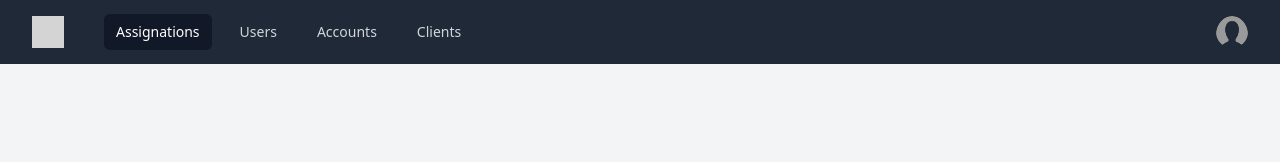
Test: Header › it should render user options for desktop
Click the button with test id "header-profile-dropdown-button".
click(1232, 32)  # box x1=1216 y1=16 x2=1248 y2=48
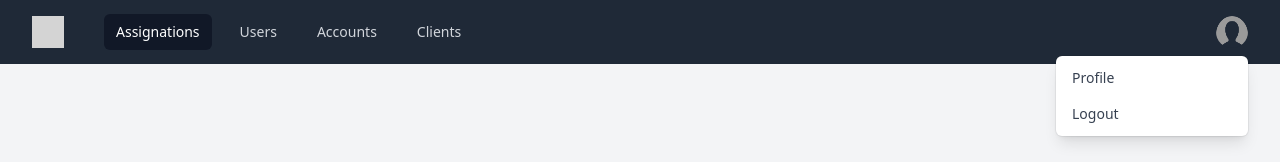
Expected: the menu item "Profile" is shown, x1=1072 y1=68 x2=1114 y2=87
Expected: the menu item "Logout" is shown, x1=1072 y1=104 x2=1119 y2=123
